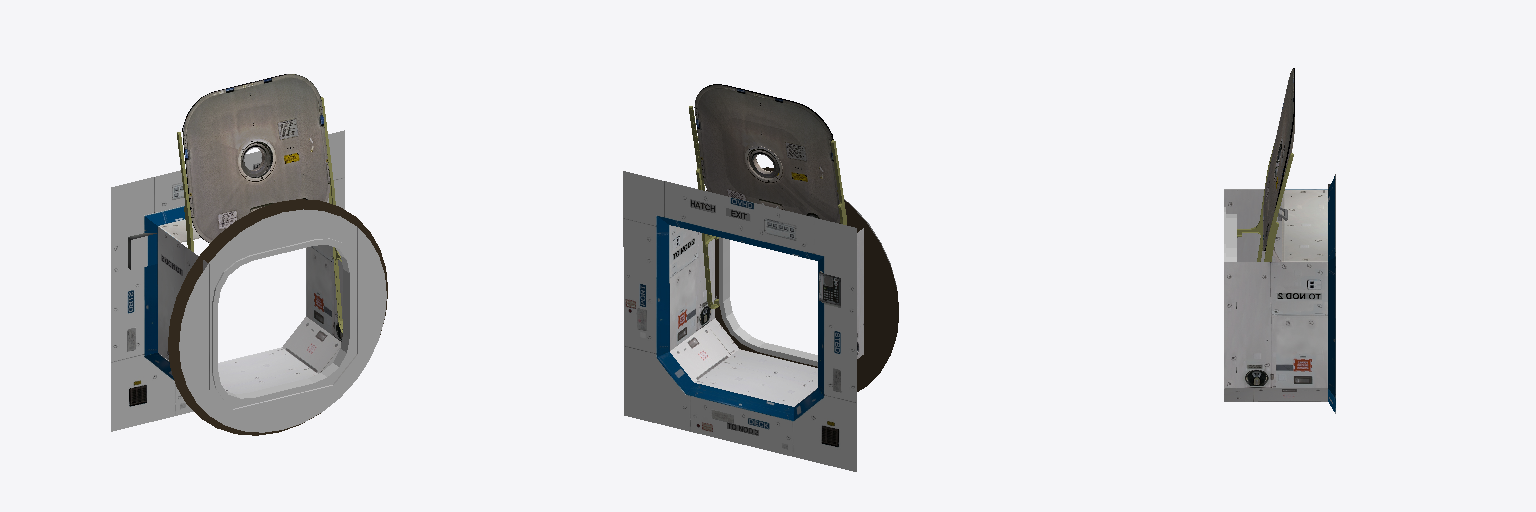
3 views of the same model, side by side, from view 1: azimuth 30°, elevation 25°; view 2: azimuth 150°, elevation 25°; view 3: azimuth 270°, elevation 25° (orthographic).
Bounding box in the file's own units: 2.26 × 3.1 × 0.9319.
8 materials, 2 textured.